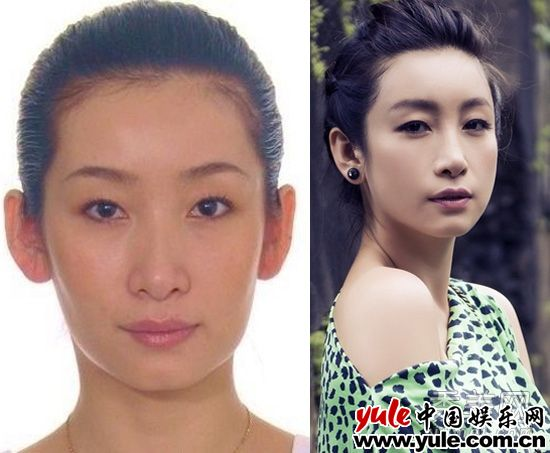unmask: (43, 91, 259, 373), (378, 62, 506, 224)
